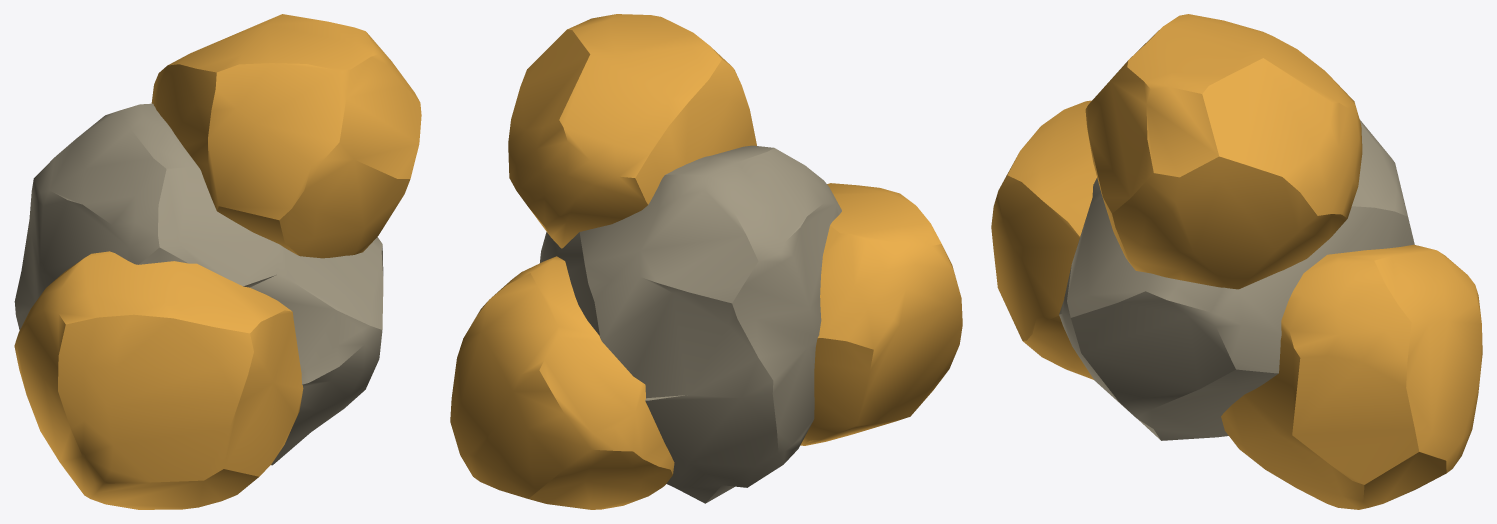
Rendered from Gold ore.glb.
3 renders of one model, left to right at view 1: azimuth 30°, elevation 25°; view 2: azimuth 150°, elevation 25°; view 3: azimuth 270°, elevation 25°, orthographic. The views are drawn at different scales.
Parts seen in each view (by area): view 1: UI_Gold; view 2: UI_Gold; view 3: UI_Gold.
Boxes of the visible parts, x1,y1,x2,y2 form: UI_Gold: (14, 14, 421, 509); UI_Gold: (450, 14, 962, 509); UI_Gold: (991, 14, 1482, 509).
Size of the model in its own units: 0.3996 by 0.4168 by 0.4139.
Materials: 1 (1 with a texture image).
